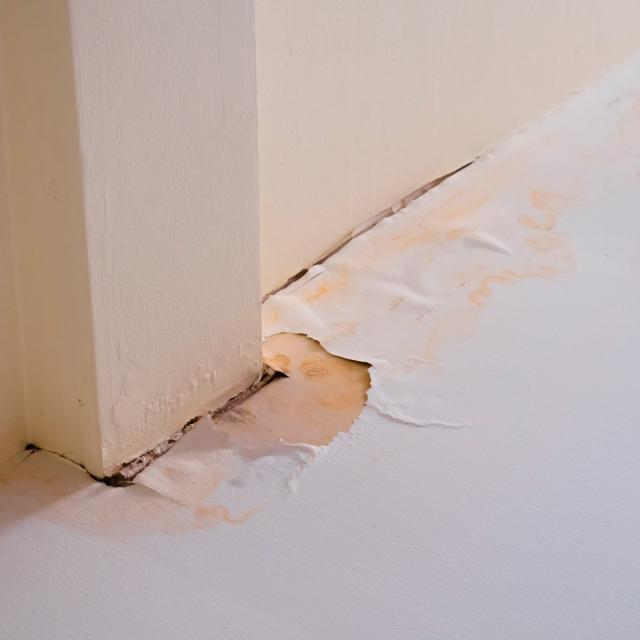Crack: (261, 150, 490, 305), (130, 366, 290, 480), (28, 433, 131, 489)
leak: (142, 440, 327, 499), (363, 388, 476, 434), (308, 263, 426, 307), (270, 290, 330, 340), (466, 219, 516, 258)
